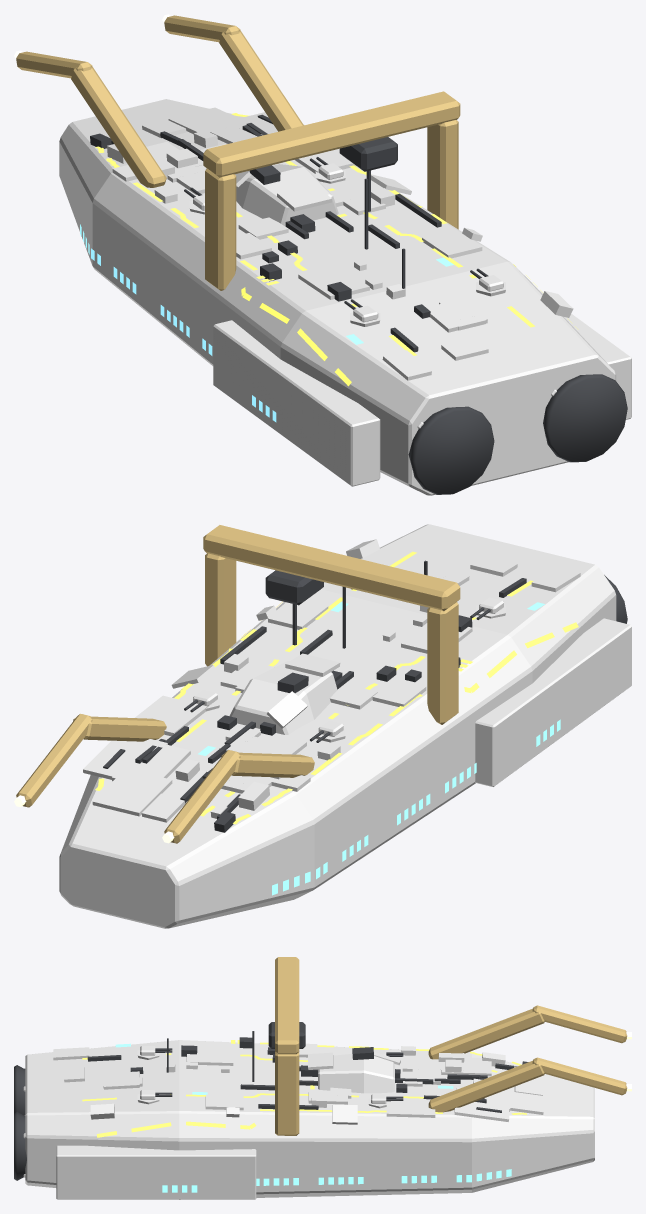
File: prorab.glb
3 views of the same model, one above another, from view 1: azimuth 30°, elevation 25°; view 2: azimuth 150°, elevation 25°; view 3: azimuth 270°, elevation 25° (orthographic). The views are drawn at different scales.
Visible parts, largest first — view 1: Корпус, Накладные_плиты, Бункер.001, Балка_портала, Кожух_дюзы.001, Кожух_дюзы, Механика, Опора_портала.001, Плечо.001, Опора_портала, Мостик, Плечо (+6 smaller); view 2: Корпус, Накладные_плиты, Бункер.001, Балка_портала, Механика, Мостик, Опора_портала.001, Опора_портала, Разметка, Предплечье, Предплечье.001, Плечо.001 (+3 smaller); view 3: Корпус, Накладные_плиты, Бункер, Механика, Мостик, Балка_портала, Плечо, Опора_портала, Плечо.001, Разметка, Предплечье, Предплечье.001 (+4 smaller).
Part boxes in pixels (x1=…): Корпус: x1=59, y1=99, x2=616, y2=495; Накладные_плиты: x1=107, y1=107, x2=573, y2=380; Бункер.001: x1=213, y1=320, x2=380, y2=486; Балка_портала: x1=203, y1=91, x2=460, y2=177; Кожух_дюзы.001: x1=408, y1=406, x2=494, y2=494; Кожух_дюзы: x1=543, y1=374, x2=627, y2=462; Механика: x1=90, y1=114, x2=441, y2=352; Опора_портала.001: x1=205, y1=168, x2=236, y2=290; Плечо.001: x1=71, y1=66, x2=166, y2=187; Опора_портала: x1=427, y1=120, x2=458, y2=229; Мостик: x1=236, y1=164, x2=338, y2=226; Плечо: x1=219, y1=30, x2=303, y2=131; Корпус: x1=59, y1=524, x2=616, y2=928; Накладные_плиты: x1=83, y1=539, x2=580, y2=822; Бункер.001: x1=475, y1=618, x2=631, y2=786; Балка_портала: x1=203, y1=525, x2=460, y2=611; Механика: x1=103, y1=560, x2=526, y2=832; Мостик: x1=229, y1=661, x2=337, y2=734; Опора_портала.001: x1=427, y1=602, x2=458, y2=724; Опора_портала: x1=205, y1=553, x2=236, y2=666; Разметка: x1=95, y1=551, x2=578, y2=824; Предплечье: x1=16, y1=713, x2=92, y2=807; Предплечье.001: x1=164, y1=750, x2=240, y2=843; Плечо.001: x1=221, y1=752, x2=314, y2=777; Корпус: x1=25, y1=1040, x2=594, y2=1199; Накладные_плиты: x1=53, y1=1043, x2=543, y2=1124; Бункер: x1=56, y1=1145, x2=256, y2=1199; Механика: x1=87, y1=1031, x2=528, y2=1112; Мостик: x1=318, y1=1054, x2=394, y2=1093; Балка_портала: x1=275, y1=957, x2=299, y2=1054; Плечо: x1=428, y1=1060, x2=544, y2=1112; Опора_портала: x1=275, y1=1052, x2=299, y2=1135; Плечо.001: x1=428, y1=1008, x2=544, y2=1059; Разметка: x1=82, y1=1040, x2=526, y2=1137; Предплечье: x1=532, y1=1057, x2=627, y2=1095; Предплечье.001: x1=532, y1=1005, x2=627, y2=1043.
Size of the model in its own units: 0.768 by 0.595 by 2.01.
